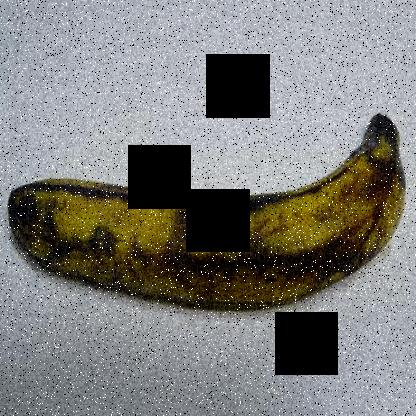overripe: (1, 99, 415, 315)
